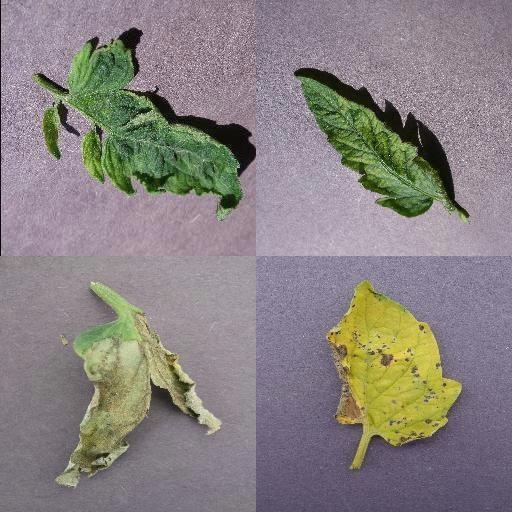Late Blight: (56, 319, 222, 493)
Mosaic Virus: (42, 38, 244, 224), (290, 73, 444, 217)
Septoria: (329, 277, 462, 445)
